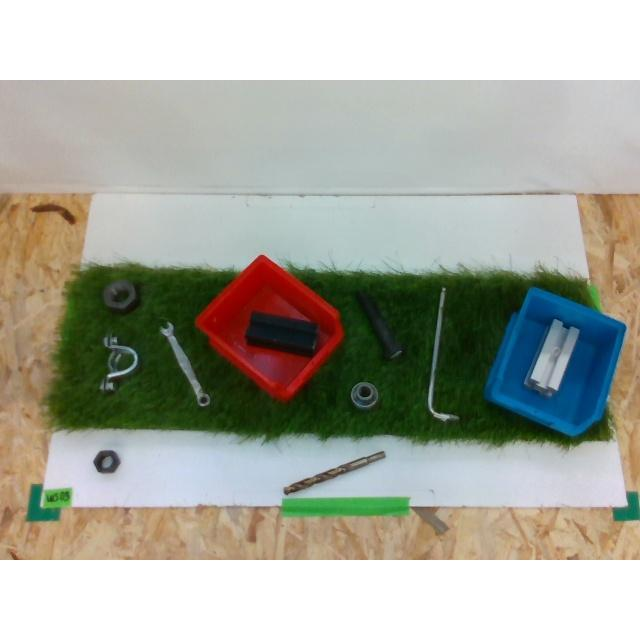AllenKey: (426, 286, 458, 422)
Bearing2: (349, 381, 378, 411)
Drill: (283, 450, 385, 494)
Housing: (100, 336, 138, 392)
M20: (92, 451, 120, 474)
M20_100: (356, 291, 404, 359)
M30: (102, 280, 138, 312)
S40_40_B: (246, 311, 318, 357)
S40_40_G: (525, 319, 579, 395)
Wrench: (160, 322, 210, 406)
container_box_blue: (484, 288, 626, 437)
container_box_red: (195, 255, 343, 400)
